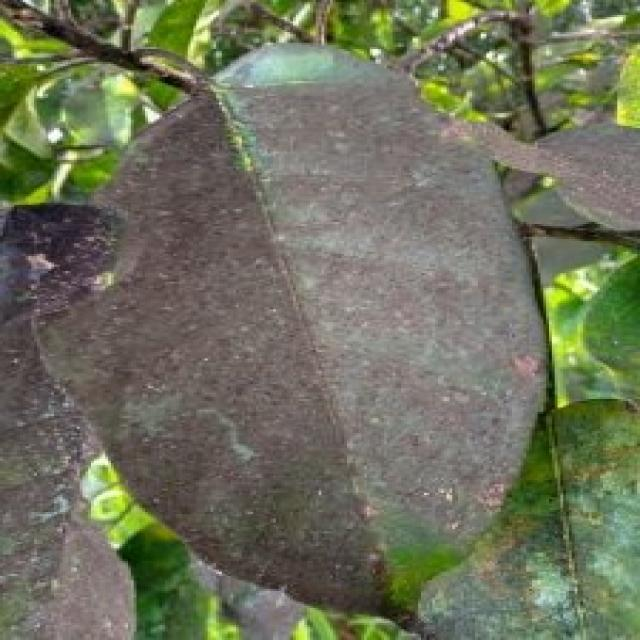Sooty Mold: (23, 39, 560, 616), (0, 198, 139, 637)
